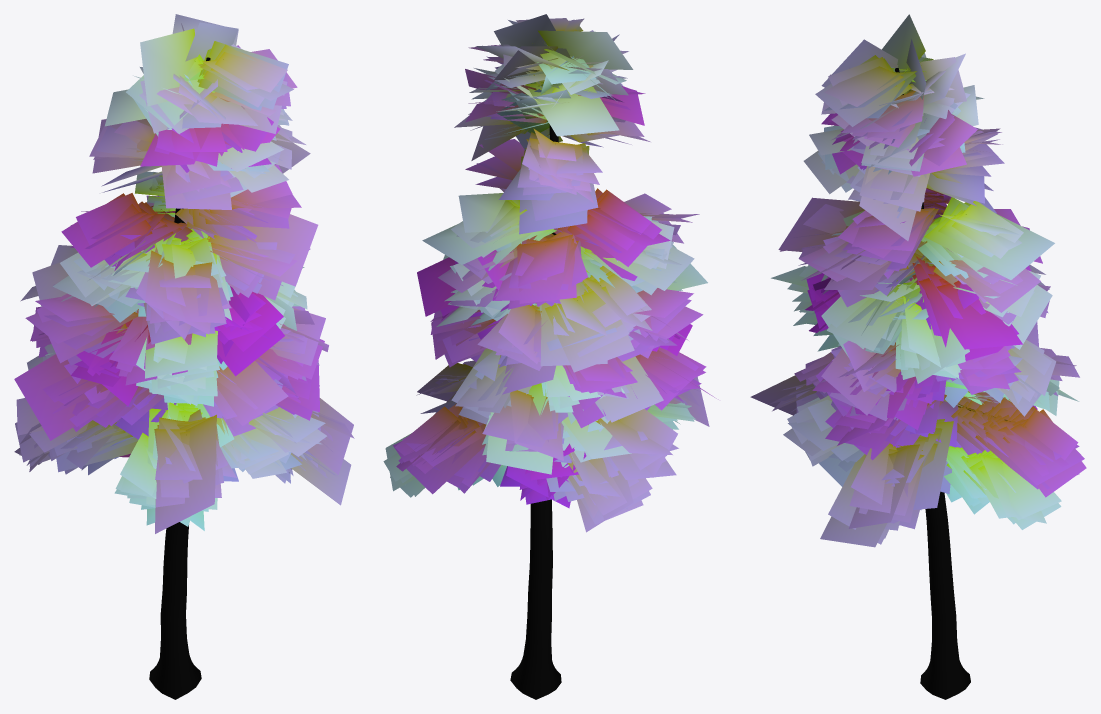
The model's file is tree_cedar_a.glb.
3 renders of one model, left to right at view 1: azimuth 30°, elevation 25°; view 2: azimuth 150°, elevation 25°; view 3: azimuth 270°, elevation 25°, orthographic. The views are drawn at different scales.
Visible parts, largest first — view 1: tree_cedar_a; view 2: tree_cedar_a; view 3: tree_cedar_a.
Boxes of the visible parts, x1=… form: tree_cedar_a: x1=14, y1=14, x2=354, y2=699; tree_cedar_a: x1=383, y1=14, x2=718, y2=699; tree_cedar_a: x1=750, y1=14, x2=1086, y2=699.
Bounding box in the file's own units: 12.76 × 26.31 × 12.27.
